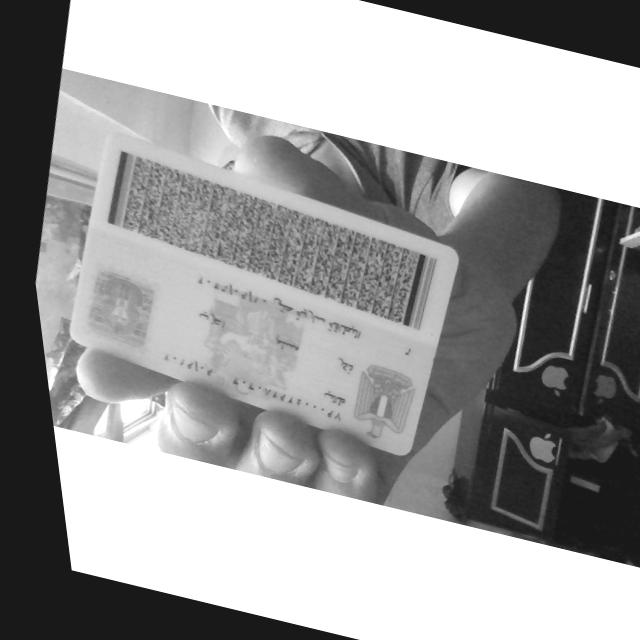back: (70, 135, 456, 454)
